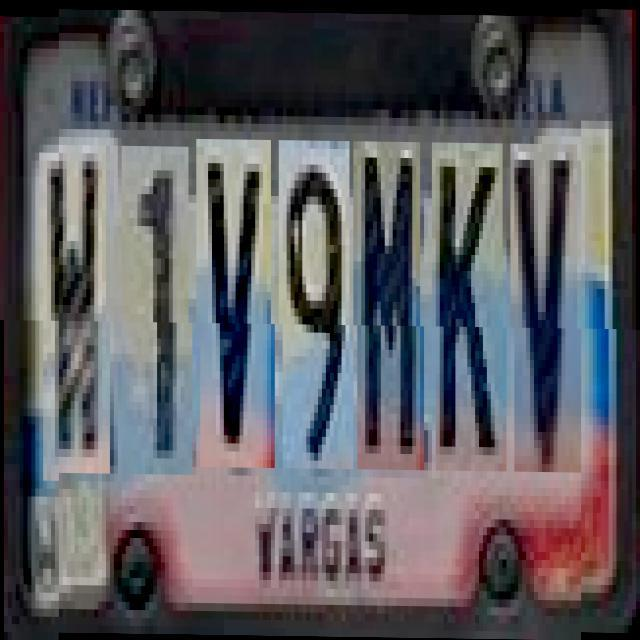1: (126, 146, 192, 474)
9: (282, 139, 354, 468)
K: (436, 141, 506, 470)
M: (357, 140, 424, 469)
V: (200, 138, 275, 468), (514, 142, 581, 471)
W: (43, 144, 110, 473)
